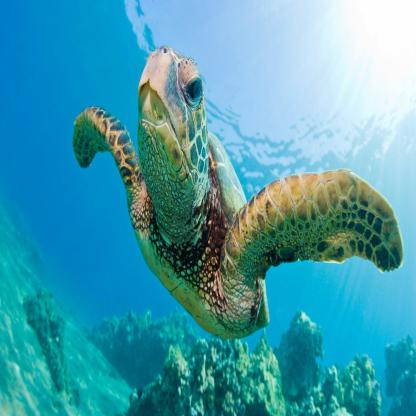turtle: (132, 33, 214, 242)
